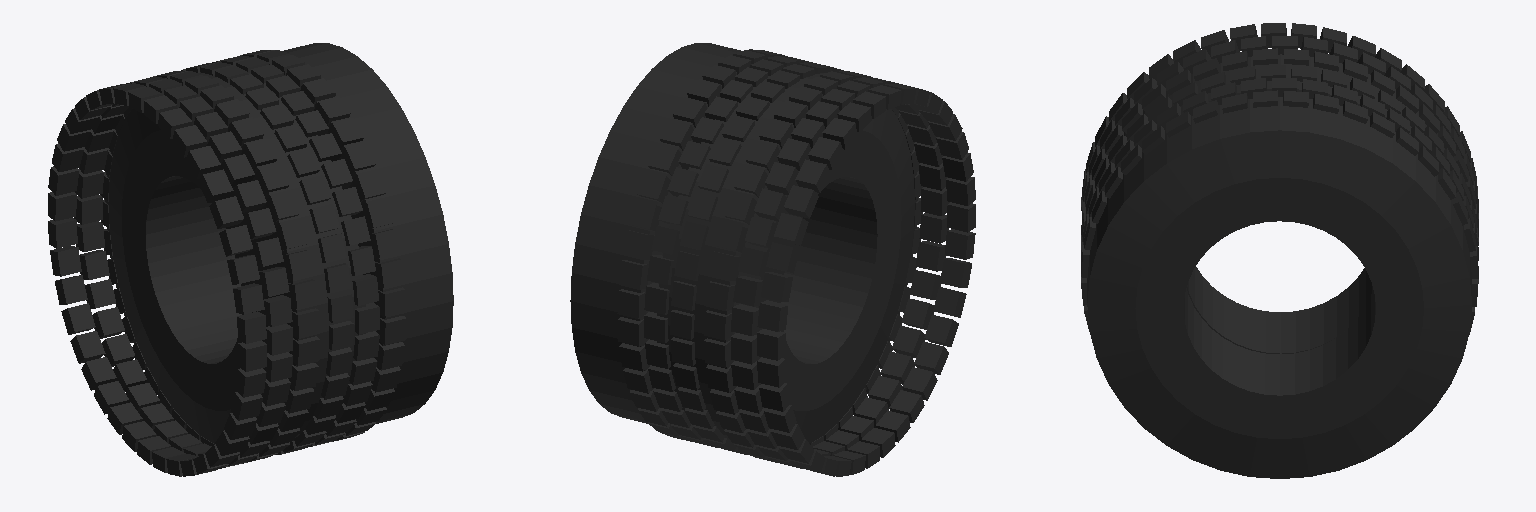
The model's file is ruoteR1B.obj.
3 renders of one model, left to right at view 1: azimuth 30°, elevation 25°; view 2: azimuth 150°, elevation 25°; view 3: azimuth 270°, elevation 25°, orthographic.
Visible parts, largest first — view 1: Box1186, Tube25, Box1187, Tube26; view 2: Box1186, Tube25, Box1187, Tube26; view 3: Tube26, Box1187, Box1186, Tube25.
Boxes of the visible parts, box(x1,y1,x2,y2) form: Box1186: box(48, 71, 319, 476); Tube25: box(105, 72, 365, 444); Box1187: box(181, 50, 406, 454); Tube26: box(235, 43, 453, 423); Box1186: box(704, 71, 975, 476); Tube25: box(657, 73, 917, 443); Box1187: box(617, 49, 843, 454); Tube26: box(570, 43, 751, 423); Tube26: box(1087, 97, 1471, 478); Box1187: box(1081, 65, 1478, 334); Box1186: box(1081, 23, 1478, 245); Tube25: box(1108, 54, 1453, 353).
Bounding box in the file's own units: 7.32 × 11.57 × 11.57.